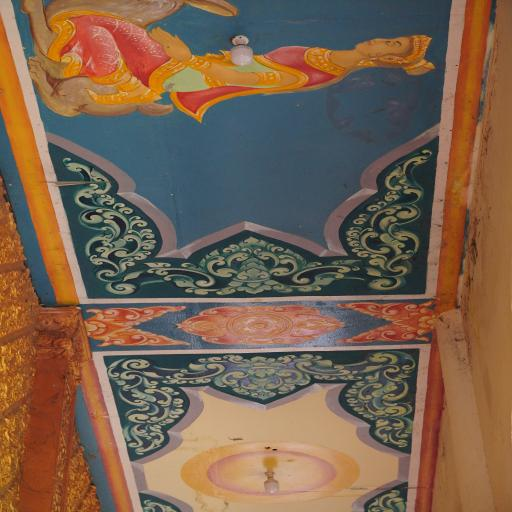hoa: (178, 305, 346, 345), (82, 313, 131, 341), (392, 307, 440, 335)
la: (58, 152, 171, 300), (333, 148, 442, 294), (150, 231, 357, 299), (106, 356, 191, 460), (169, 353, 353, 401), (345, 350, 423, 454), (100, 326, 188, 348), (336, 324, 428, 345), (100, 306, 186, 326), (344, 302, 438, 320), (361, 480, 411, 512), (135, 490, 190, 512)
than: (18, 4, 452, 125)
